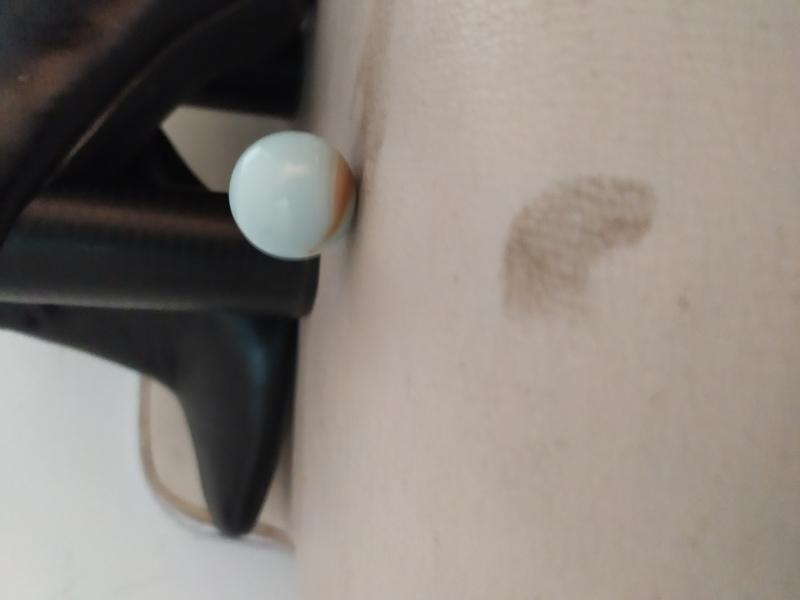Warning: (225, 126, 361, 265)
